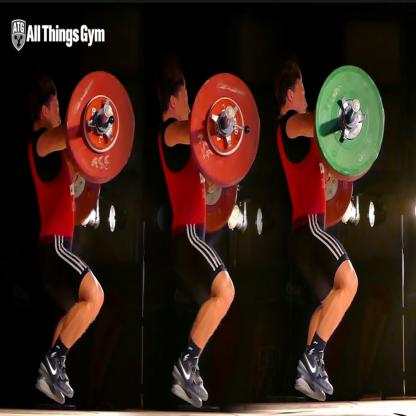Barbell: (314, 58, 388, 182), (64, 65, 140, 185), (189, 66, 263, 189)
